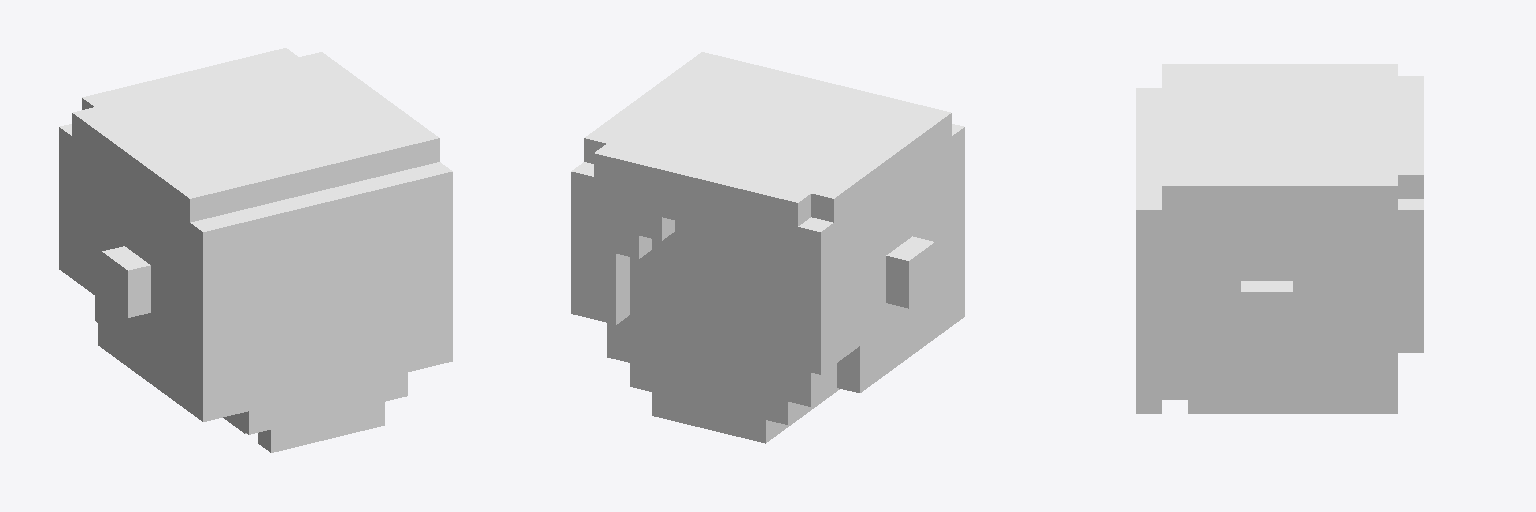
File: char-2.obj
The picture shows the model from 3 angles: view 1: azimuth 30°, elevation 25°; view 2: azimuth 150°, elevation 25°; view 3: azimuth 270°, elevation 25°; orthographic projection.
Parts seen in each view (by area): view 1: object 1; view 2: object 1; view 3: object 1.
Part boxes in pixels (bbox=[...]): object 1: bbox=[59, 48, 452, 452]; object 1: bbox=[571, 52, 964, 443]; object 1: bbox=[1136, 64, 1423, 413].
Bounding box in the file's own units: 1.3 × 1.1 × 1.1.